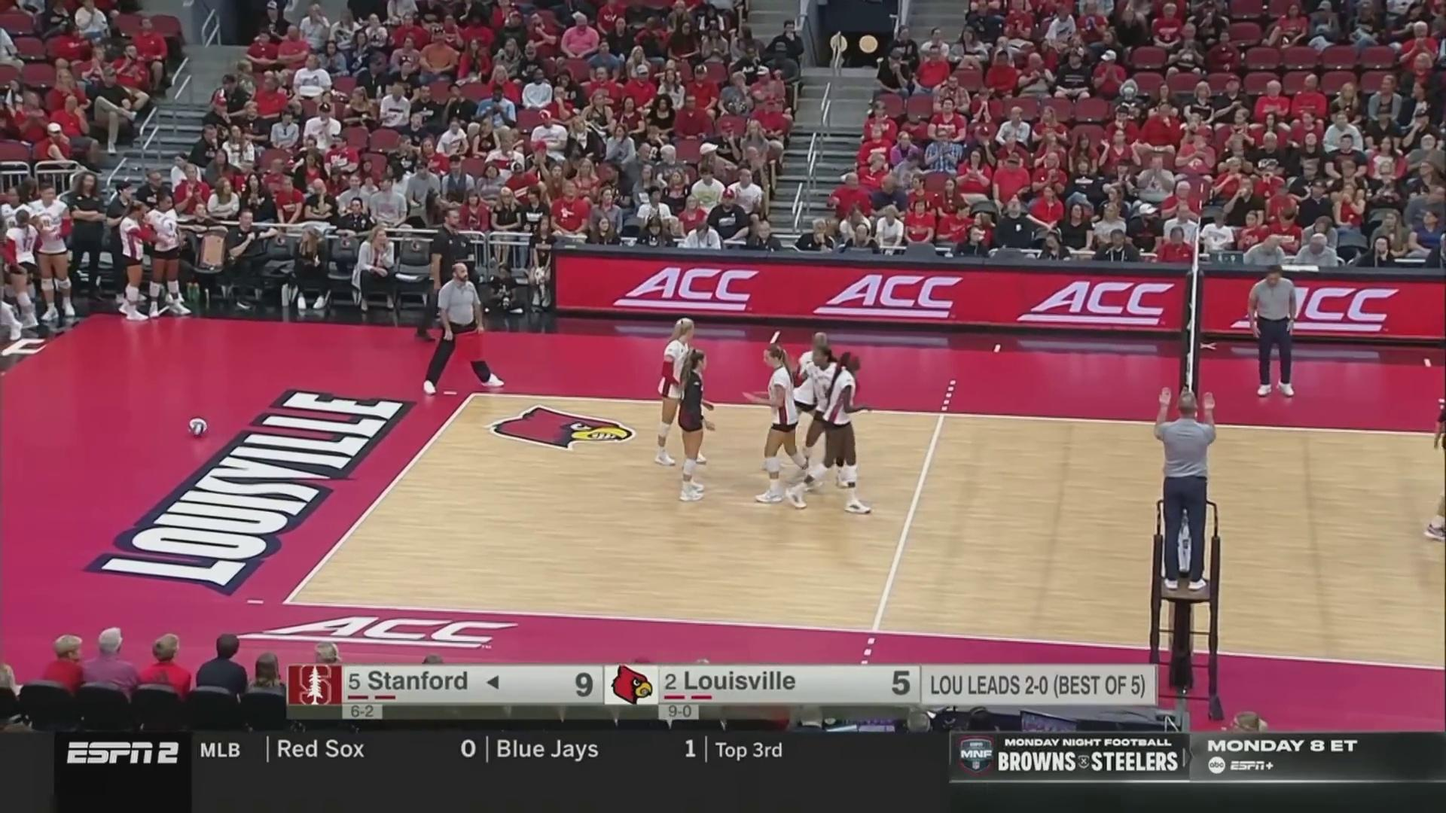player: (790, 352, 873, 512), (746, 346, 820, 501), (764, 333, 837, 480), (793, 346, 858, 489), (654, 318, 708, 465), (678, 349, 715, 503)
refree: (1153, 388, 1218, 592), (425, 262, 505, 394), (1250, 266, 1299, 398)
